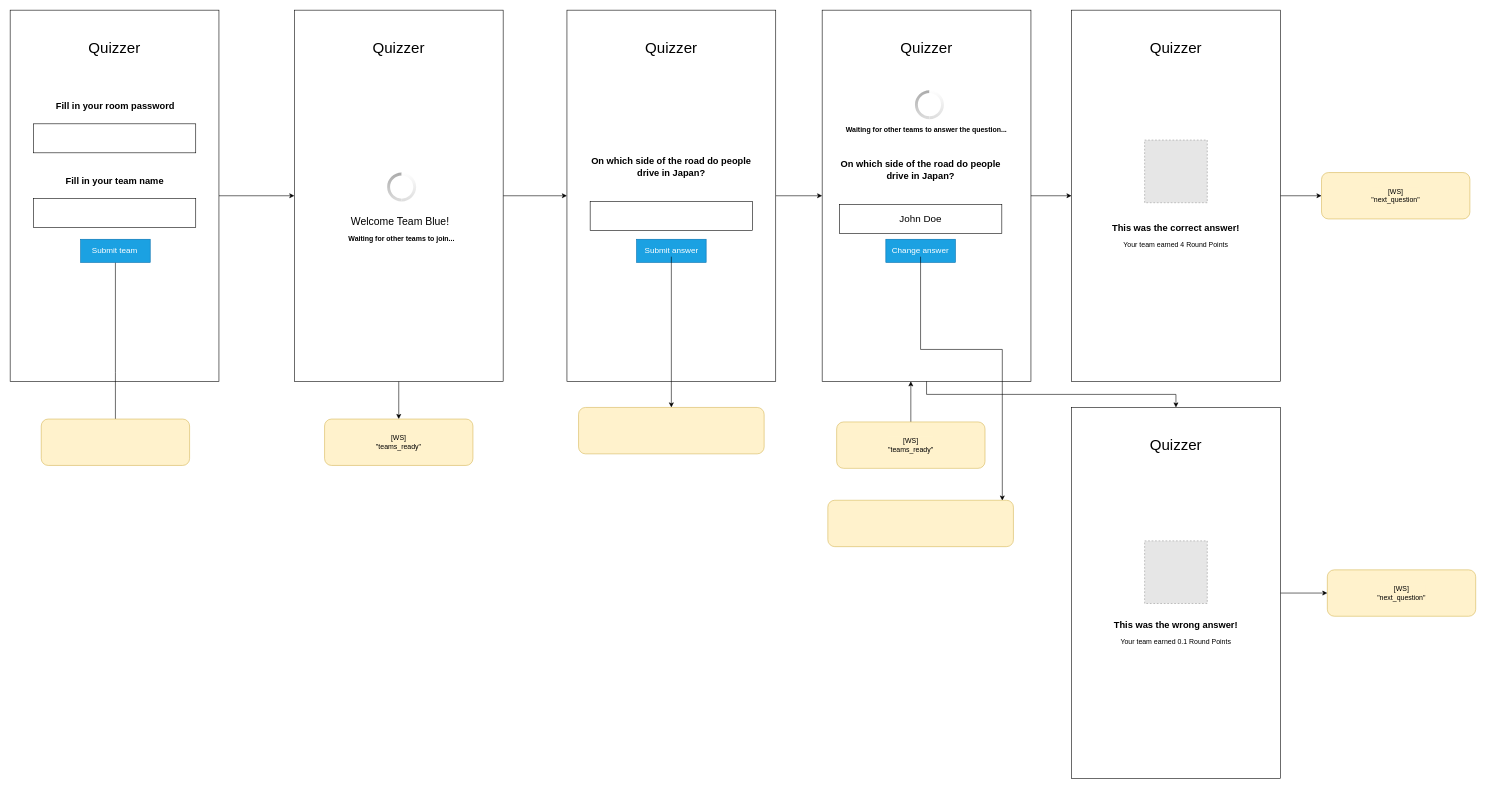
This 1486x789 diagram has some shape labels left out. Grey dashed boxes stand in for pictures. The shapes that lost their labels are listed below. From the top down, each one's centre as x and y in pixels, then its label:
At (x=115, y=441): "[REST] POST quizzes/:quizID/teams/".
At (x=671, y=430): "[REST] POST quizzes/quizID/teams/:teamID/questions/:questionID/ answers".
At (x=920, y=523): "[REST] PUT quizzes/quizID/teams/:teamID/questions/:questionID/ answers/answerID".
